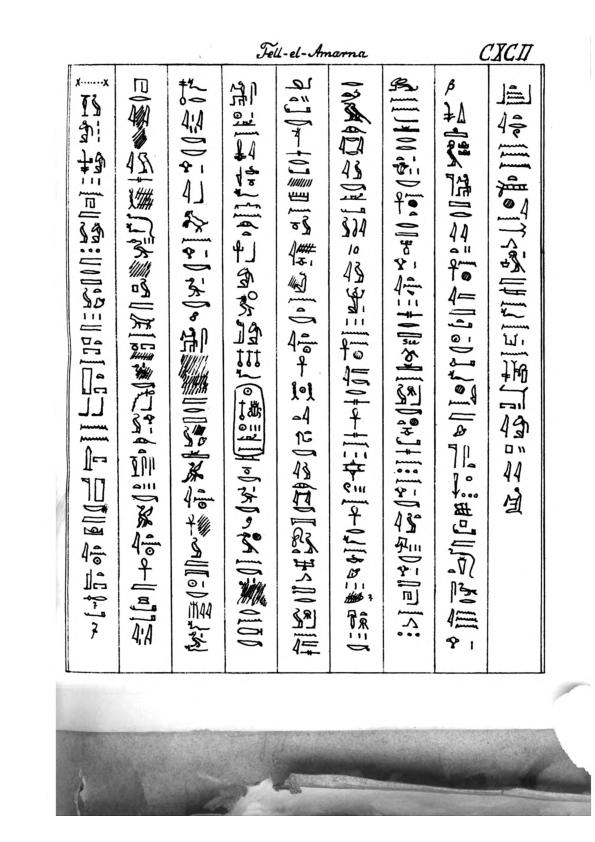circle: (230, 380, 265, 462)
